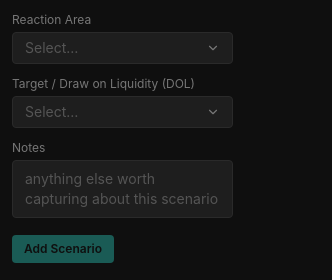
it: ScenarioForm — add mode › enables the submit button once notes are entered
Type "some notes" into the text box with placeholder "anything else worth capturing about this scenario" at (122, 189), box [12, 160, 233, 218]
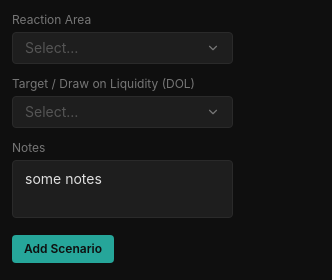
Check: the button "Add Scenario" is enabled, box [12, 235, 114, 263]
